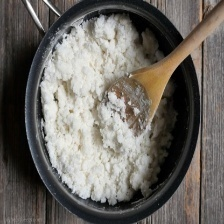rice: (28, 6, 190, 211)
